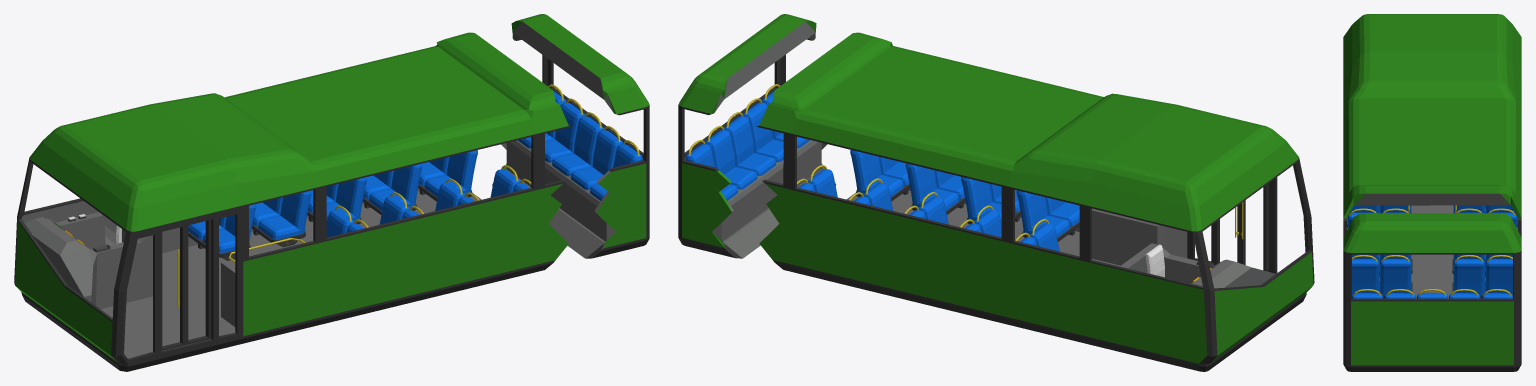
File: Bus Alpha.fbx
3 renders of one model, left to right at view 1: azimuth 30°, elevation 25°; view 2: azimuth 150°, elevation 25°; view 3: azimuth 270°, elevation 25°, orthographic. The views are drawn at different scales.
Parts seen in each view (by area): view 1: Bus, Bus - Back, Seats - Right Row, CockpitFrame, Seats - BackRow, Seats - Left Row, Door- Left, Door- Right; view 2: Bus, Bus - Back, Seats - Left Row, Seats - BackRow, Seats - Right Row, CockpitFrame, Door- Right, Door- Left; view 3: Bus, Bus - Back, Seats - Right Row, Seats - Left Row, Seats - BackRow.
Boxes of the visible parts, bbox=[...] form: Bus: bbox=[14, 32, 570, 371]; Bus - Back: bbox=[492, 14, 649, 258]; Seats - Right Row: bbox=[188, 150, 477, 260]; CockpitFrame: bbox=[24, 212, 152, 309]; Seats - BackRow: bbox=[518, 84, 642, 200]; Seats - Left Row: bbox=[326, 165, 531, 237]; Door- Left: bbox=[185, 220, 211, 344]; Door- Right: bbox=[161, 226, 185, 350]; Bus: bbox=[757, 32, 1314, 371]; Bus - Back: bbox=[678, 14, 835, 258]; Seats - Left Row: bbox=[850, 150, 1079, 241]; Seats - BackRow: bbox=[685, 84, 810, 200]; Seats - Right Row: bbox=[797, 165, 1059, 251]; CockpitFrame: bbox=[1120, 243, 1275, 288]; Door- Right: bbox=[1240, 183, 1268, 271]; Door- Left: bbox=[1214, 204, 1240, 264]; Bus: bbox=[1343, 14, 1521, 298]; Bus - Back: bbox=[1343, 213, 1521, 371]; Seats - Right Row: bbox=[1452, 205, 1517, 298]; Seats - Left Row: bbox=[1347, 205, 1412, 298]; Seats - BackRow: bbox=[1352, 289, 1512, 298].
Bounding box in the file's own units: 3396 × 1072 × 1136.
